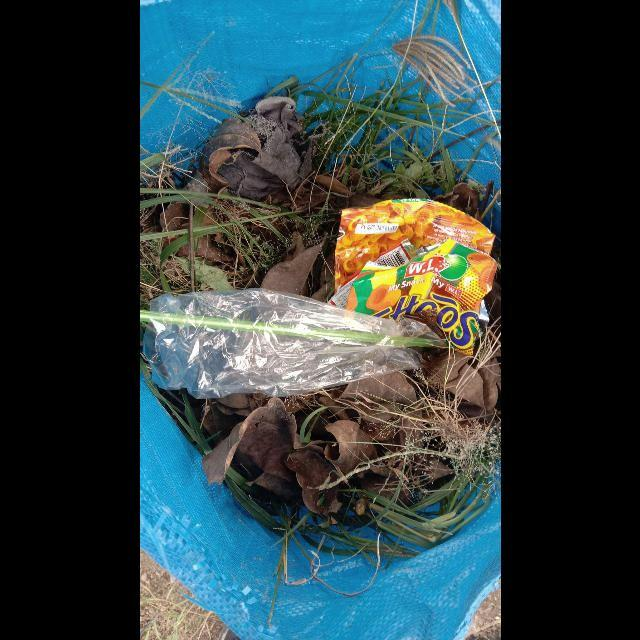food_wrapper: (328, 201, 497, 357)
plastic_bag: (142, 288, 441, 399)
